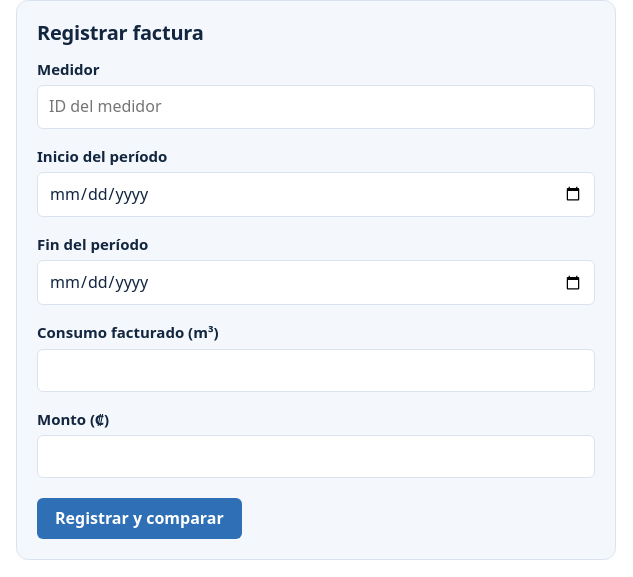
it: PantallaFactura › muestra un aviso claro cuando no hay lecturas suficientes para comparar
Type "medidor-1" into the field labelled "Medidor" at (316, 107), box [37,85,595,129]
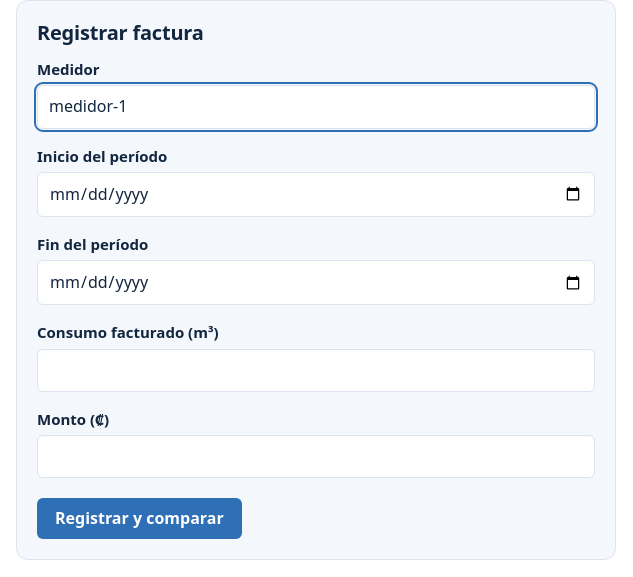
Type "2026-07-01" into the date field labelled "Inicio del período" at (316, 194), box [37,172,595,217]
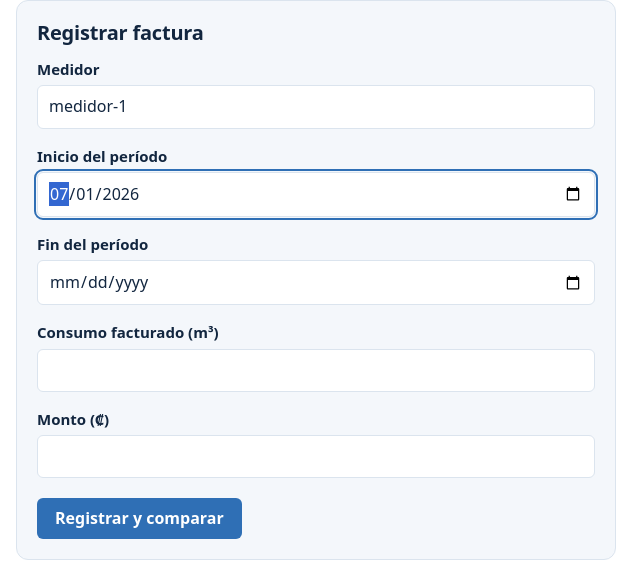
Type "2026-08-01" into the date field labelled "Fin del período" at (316, 283), box [37,260,595,305]
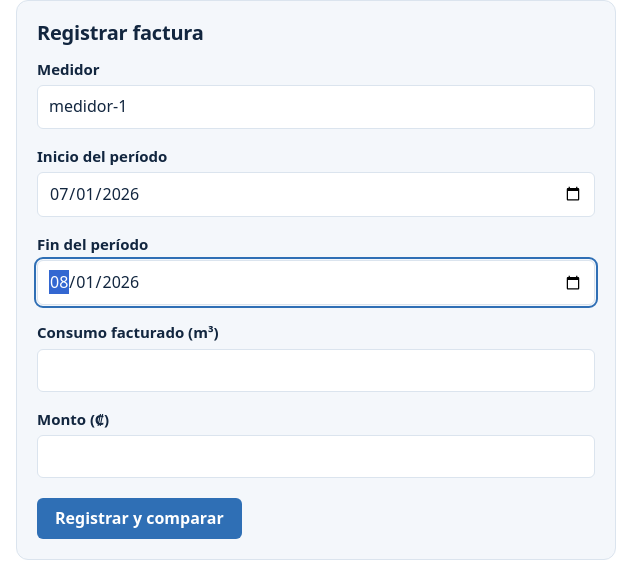
Type "14" into the field labelled "Consumo facturado (m³)" at (316, 370), box [37,349,595,392]
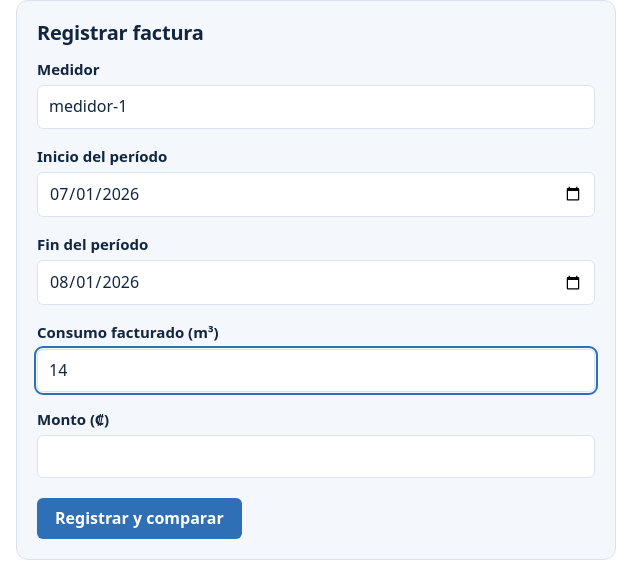
Type "8250" into the field labelled "Monto (₡)" at (316, 457), box [37,435,595,478]
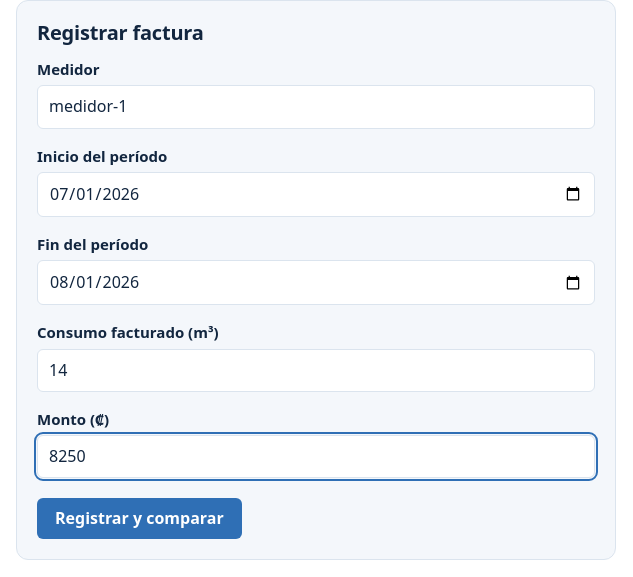
Click the button "Registrar y comparar" at (139, 519), box [37,498,242,539]
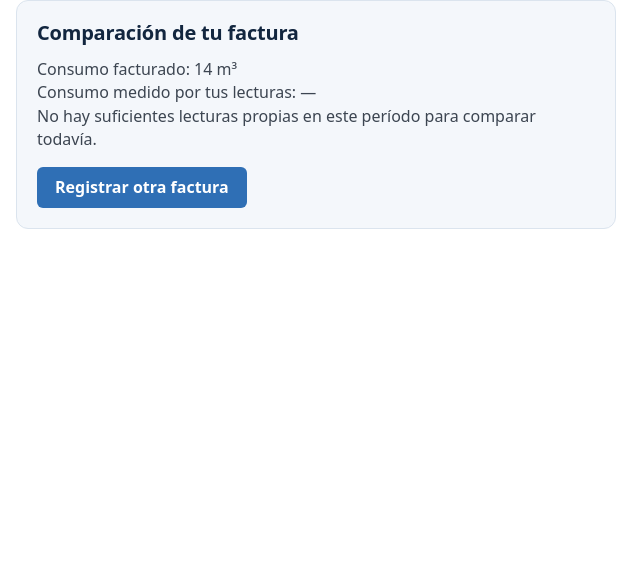
Check: the text "No hay suficientes lecturas propias en este período para comparar todavía." is shown, box [37,105,595,151]
